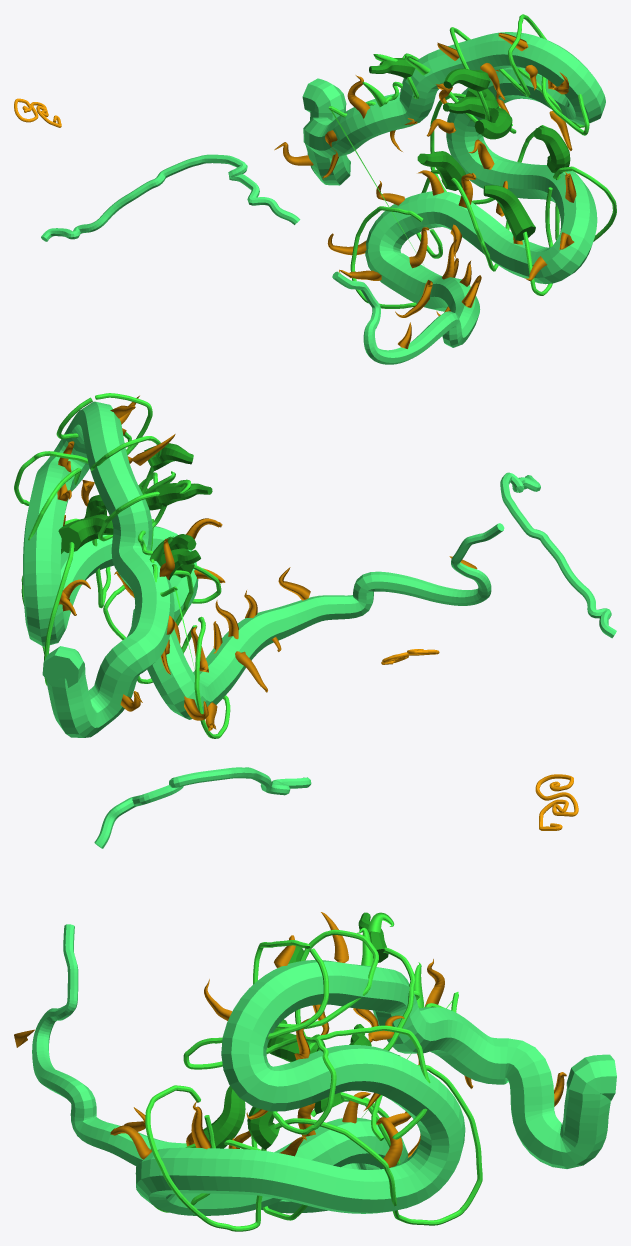
Rendered from beanup.fbx.
The picture shows the model from 3 angles, top to bottom: view 1: azimuth 30°, elevation 25°; view 2: azimuth 150°, elevation 25°; view 3: azimuth 270°, elevation 25°; orthographic projection. The views are drawn at different scales.
Visible parts, largest first — view 1: position; view 2: position; view 3: position.
Boxes of the visible parts, left/top/right/bottom form: position: left=14, top=14, right=616, bottom=364; position: left=14, top=393, right=616, bottom=738; position: left=14, top=767, right=616, bottom=1231.
Size of the model in its own units: 431 by 202 by 324.
